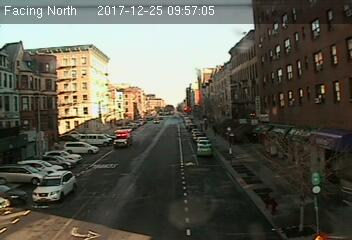car: (32, 168, 75, 204), (197, 145, 213, 156)
truck: (112, 127, 133, 146)
